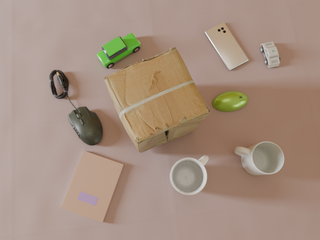book: (61, 151, 124, 223)
box: (104, 47, 211, 153)
cup: (235, 142, 284, 175), (170, 155, 209, 195)
mouse: (68, 107, 103, 145), (212, 91, 248, 112)
phone: (205, 22, 248, 70)
toy_car: (97, 33, 140, 68), (261, 42, 280, 68)
